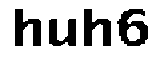6: (116, 6, 151, 48)
h: (81, 6, 115, 49), (12, 7, 43, 49)
u: (47, 17, 79, 50)
